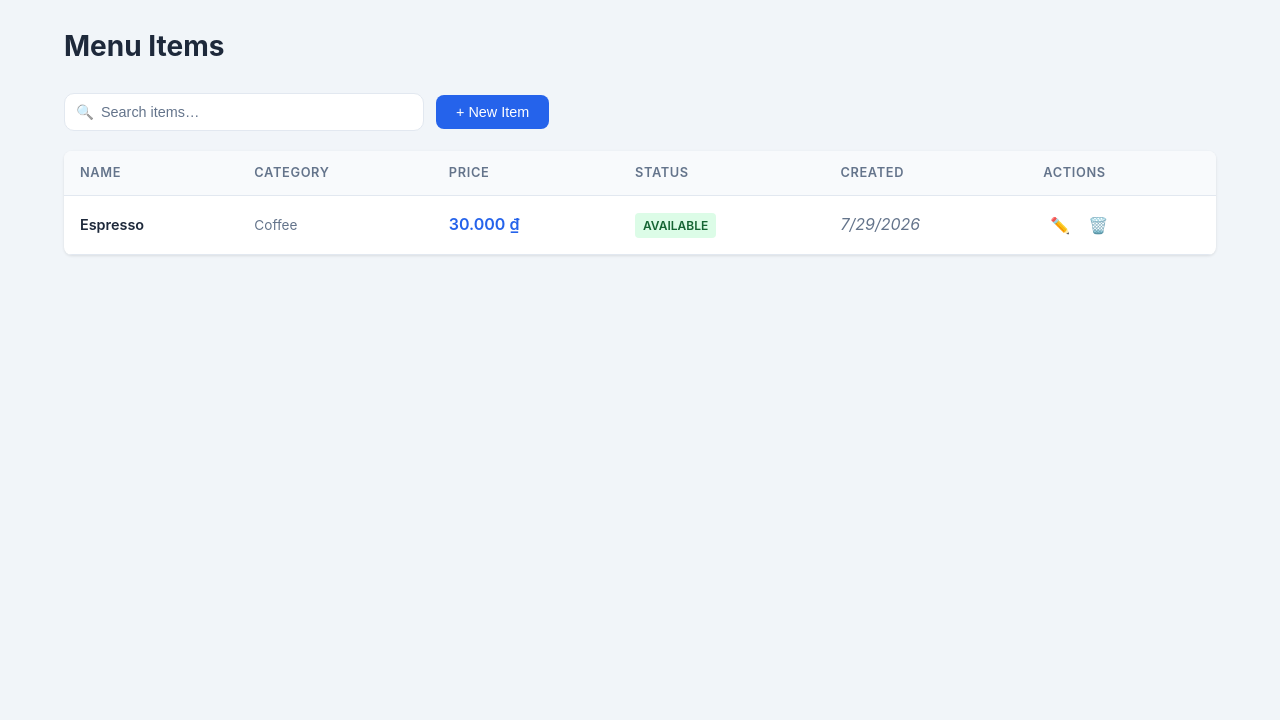
Scenario: MenuItemManagementPage › opens edit form with pre-filled data
This screenshot has width=1280, height=720.
# Click the Edit icon button (first icon-btn in the row)
Click the button named "edit".
click(1060, 225)  # box [1043,208,1077,242]
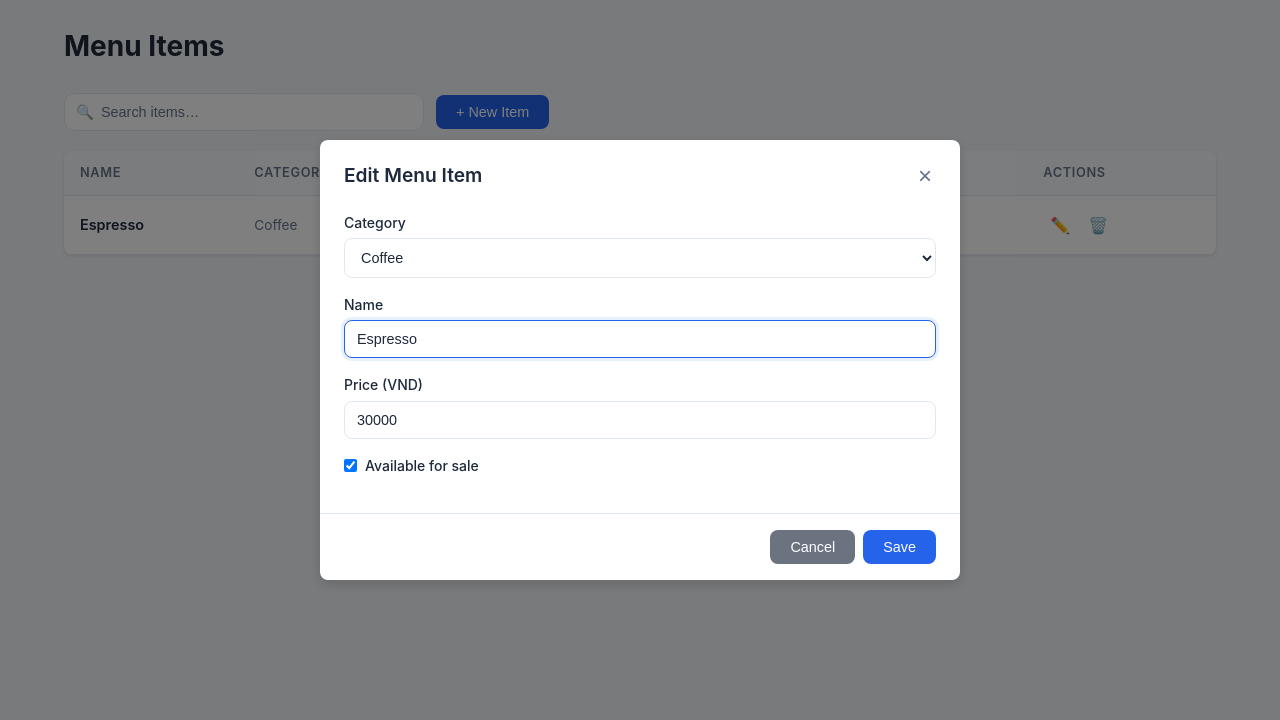
Result: the heading "Edit Menu Item" is shown at [344,160,482,191]
Result: the dropdown labelled "Category" shows "Coffee" at [344,238,936,278]
Result: the field labelled "Name" holds "Espresso" at [344,320,936,358]
